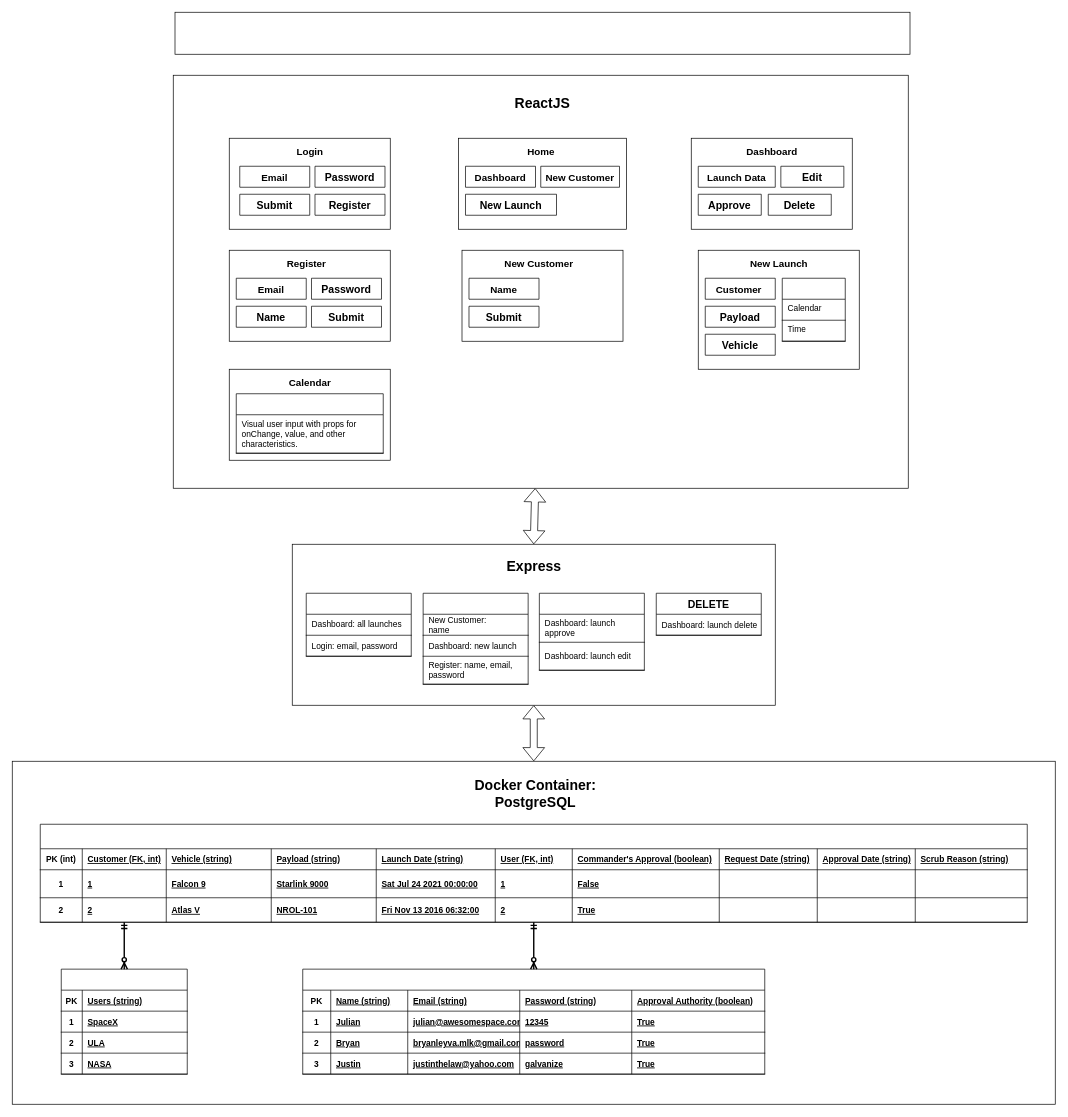
The diagram is 1068 pixels wide and 1117 high, and some of its shapes have lost their labels. Each missing label, with the box of its shape:
Customers: (61, 968, 187, 1074)
Date: (782, 278, 845, 341)
GET: (306, 593, 411, 656)
Launch Scheduler v1.0: (174, 12, 910, 54)
PATCH: (539, 593, 644, 670)
POST: (422, 593, 528, 684)
react-calendar: (236, 393, 383, 453)
Schedule: (40, 824, 1027, 922)
Users: (302, 968, 765, 1074)
